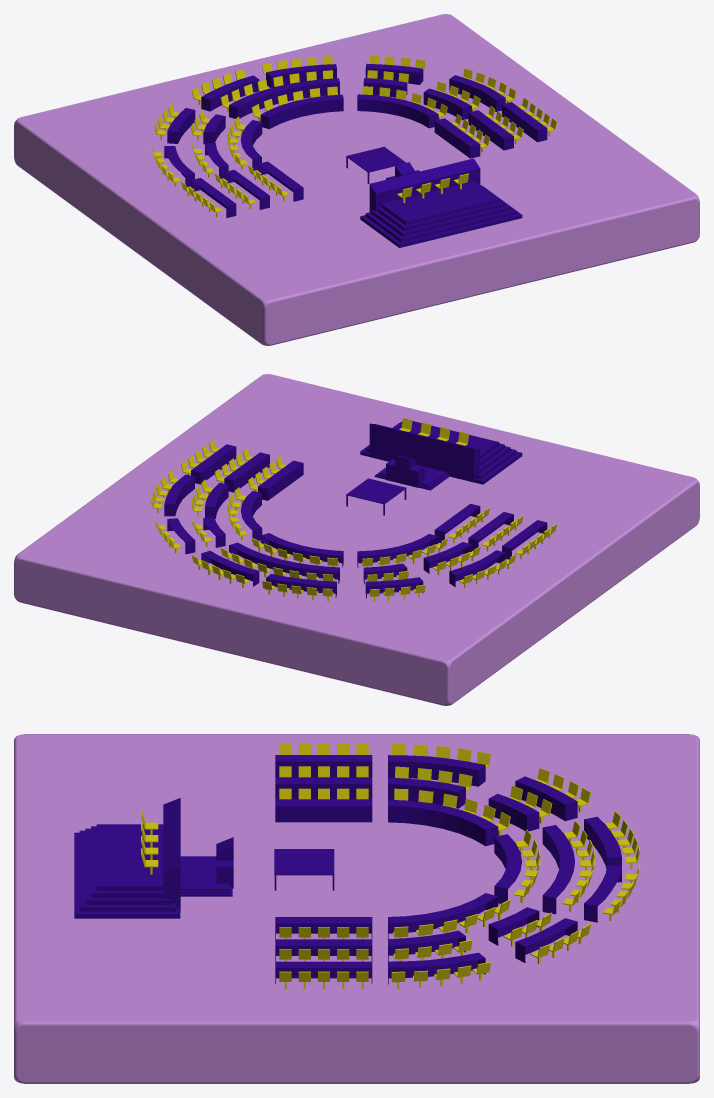
Rendered from t_senate.glb.
3 renders of one model, top to bottom at view 1: azimuth 30°, elevation 25°; view 2: azimuth 150°, elevation 25°; view 3: azimuth 270°, elevation 25°, orthographic. The views are drawn at different scales.
Visible parts, largest first — view 1: t_Senate; view 2: t_Senate; view 3: t_Senate.
Boxes of the visible parts, bbox=[...] form: t_Senate: bbox=[14, 14, 699, 345]; t_Senate: bbox=[14, 374, 699, 705]; t_Senate: bbox=[14, 734, 699, 1083].
Bounding box in the file's own units: 10 × 1.73 × 10.
